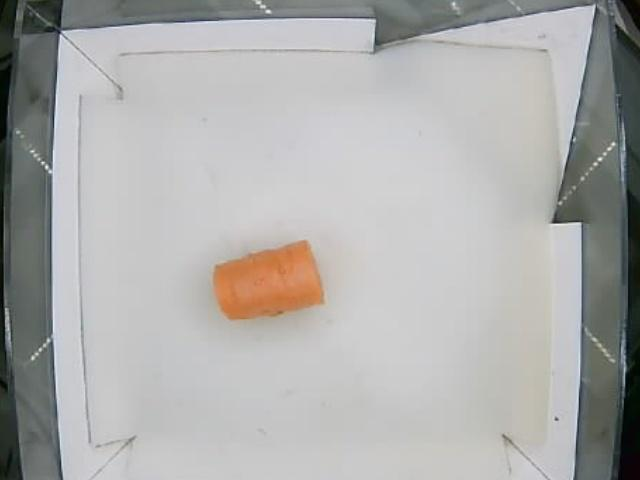Carrot: (211, 240, 324, 321)
